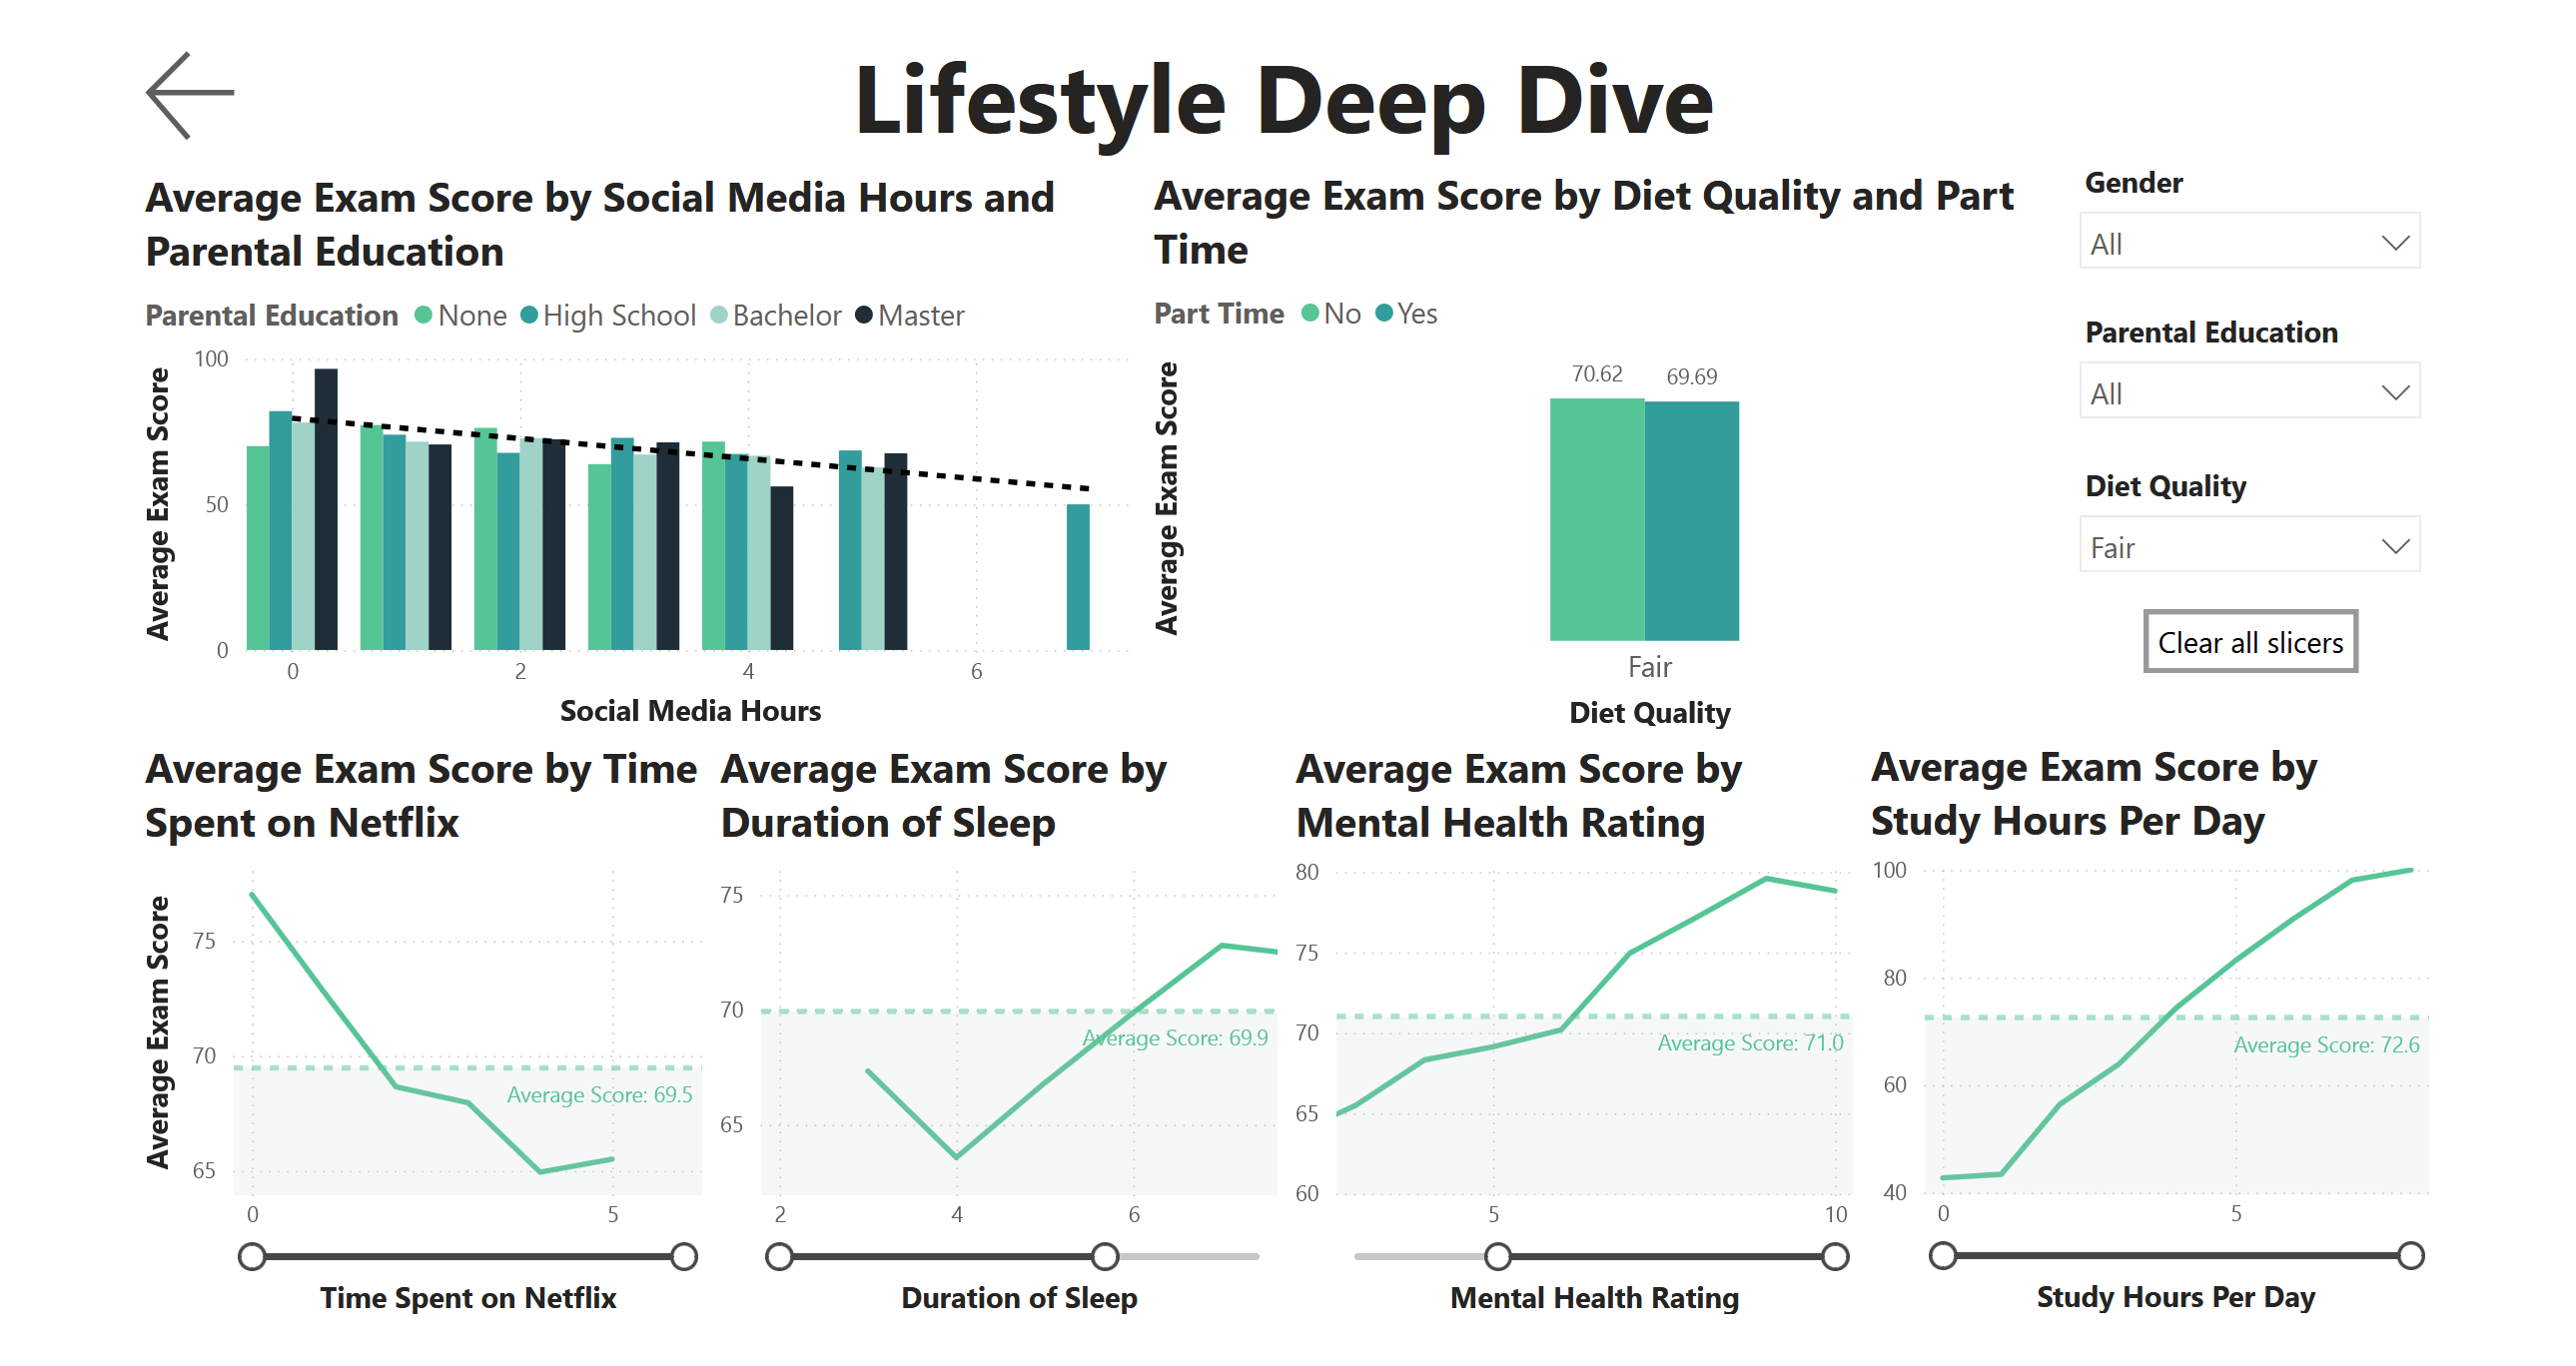

The page's visual inventory and layout, read from the dashboard file:
{"tool":"powerbi","page":{"name":"Lifestyle Deep Dive","canvas":[1280,720],"ordinal":1},"visuals":[{"type":"lineChart","fields":{"Y":["Avg(student_habits_performance_preprocess_v1.exam_score)"],"Category":["student_habits_performance_preprocess_v1.sleep_hours"]},"box":[320,399.6,320,320],"z":0},{"type":"lineChart","fields":{"Category":["student_habits_performance_preprocess_v1.netflix_hours"],"Y":["Avg(student_habits_performance_preprocess_v1.exam_score)"]},"box":[0,399.6,320,320],"z":1000},{"type":"clusteredColumnChart","fields":{"Y":["Avg(student_habits_performance_preprocess_v1.exam_score)"],"Series":["student_habits_performance_preprocess_v1.parental_education_level"],"Category":["student_habits_performance_preprocess_v1.social_media_hours"]},"box":[0,82.1,560.9,316.6],"z":2000},{"type":"clusteredColumnChart","fields":{"Y":["Avg(student_habits_performance_preprocess_v1.exam_score)"],"Series":["student_habits_performance_preprocess_v1.part_time_job"],"Category":["student_habits_performance_preprocess_v1.diet_quality"]},"box":[561.4,81.4,535.7,318.6],"z":3000},{"type":"lineChart","fields":{"Y":["Avg(student_habits_performance_preprocess_v1.exam_score)"],"Category":["student_habits_performance_preprocess_v1.mental_health_rating"]},"box":[640,399.6,320,320],"z":4000},{"type":"lineChart","fields":{"Y":["Avg(student_habits_performance_preprocess_v1.exam_score)"],"Category":["student_habits_performance_preprocess_v1.study_hours_per_day"]},"box":[959.5,398.7,320.5,320.5],"z":5000},{"type":"group","id":"g1","title":"Group 1","box":[1071.6,73.1,208.4,255.1],"z":6000},{"type":"actionButton","box":[1116.7,328.2,119.8,35.8],"z":7000},{"type":"slicer","fields":{"Values":["student_habits_performance_preprocess_v1.gender"]},"box":[1071.6,73.1,210,83.6],"z":7500,"group":"g1"},{"type":"textbox","box":[393.5,0,496.1,82.4],"z":8000},{"type":"slicer","fields":{"Values":["student_habits_performance_preprocess_v1.parental_education_level"]},"box":[1071.6,156.7,210,85.6],"z":8000,"group":"g1"},{"type":"actionButton","box":[0,10.9,65.3,62.2],"z":10000},{"type":"slicer","fields":{"Values":["student_habits_performance_preprocess_v1.diet_quality"]},"box":[1071.6,242.3,210,85.6],"z":10000,"group":"g1"}]}

Visuals, with their boxes on the page's 1280x720 design canvas (x1, y1, x2, y2). These are canvas units, not pixel positions in the 2576x1366 screenshot, which may show the page scaled, cropped or inside an application window:
lineChart - Avg(student_habits_performance_preprocess_v1.exam_score) x student_habits_performance_preprocess_v1.sleep_hours: detection(320, 400, 640, 720)
lineChart - student_habits_performance_preprocess_v1.netflix_hours x Avg(student_habits_performance_preprocess_v1.exam_score): detection(0, 400, 320, 720)
clusteredColumnChart - Avg(student_habits_performance_preprocess_v1.exam_score) x student_habits_performance_preprocess_v1.parental_education_level: detection(0, 82, 561, 399)
clusteredColumnChart - Avg(student_habits_performance_preprocess_v1.exam_score) x student_habits_performance_preprocess_v1.part_time_job: detection(561, 81, 1097, 400)
lineChart - Avg(student_habits_performance_preprocess_v1.exam_score) x student_habits_performance_preprocess_v1.mental_health_rating: detection(640, 400, 960, 720)
lineChart - Avg(student_habits_performance_preprocess_v1.exam_score) x student_habits_performance_preprocess_v1.study_hours_per_day: detection(960, 399, 1280, 719)
"Group 1" group: detection(1072, 73, 1280, 328)
actionButton: detection(1117, 328, 1236, 364)
slicer - student_habits_performance_preprocess_v1.gender: detection(1072, 73, 1282, 157)
textbox: detection(394, 0, 890, 82)
slicer - student_habits_performance_preprocess_v1.parental_education_level: detection(1072, 157, 1282, 242)
actionButton: detection(0, 11, 65, 73)
slicer - student_habits_performance_preprocess_v1.diet_quality: detection(1072, 242, 1282, 328)
